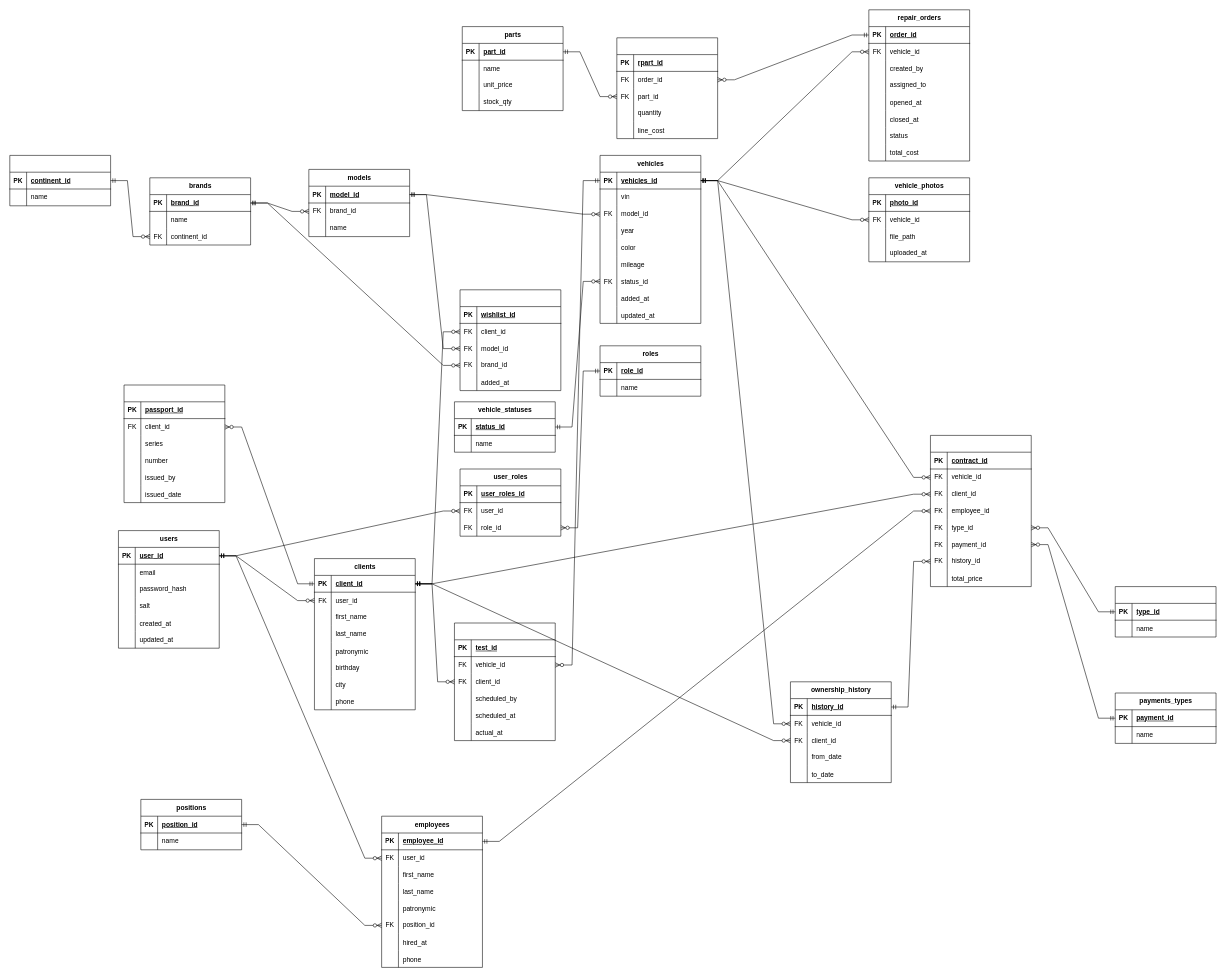
Some shapes in this 1226 by 977 pixel diagram are drawn without their labels. The box of each missing label's shape, as (x1, y1, x2, y2) in pixels:
continents: (9, 155, 111, 206)
contract_types: (1115, 586, 1216, 637)
contracts: (930, 435, 1031, 587)
passports: (123, 384, 225, 503)
repair_parts: (616, 37, 718, 139)
test_drives: (454, 622, 555, 741)
wishlists: (459, 289, 561, 391)
